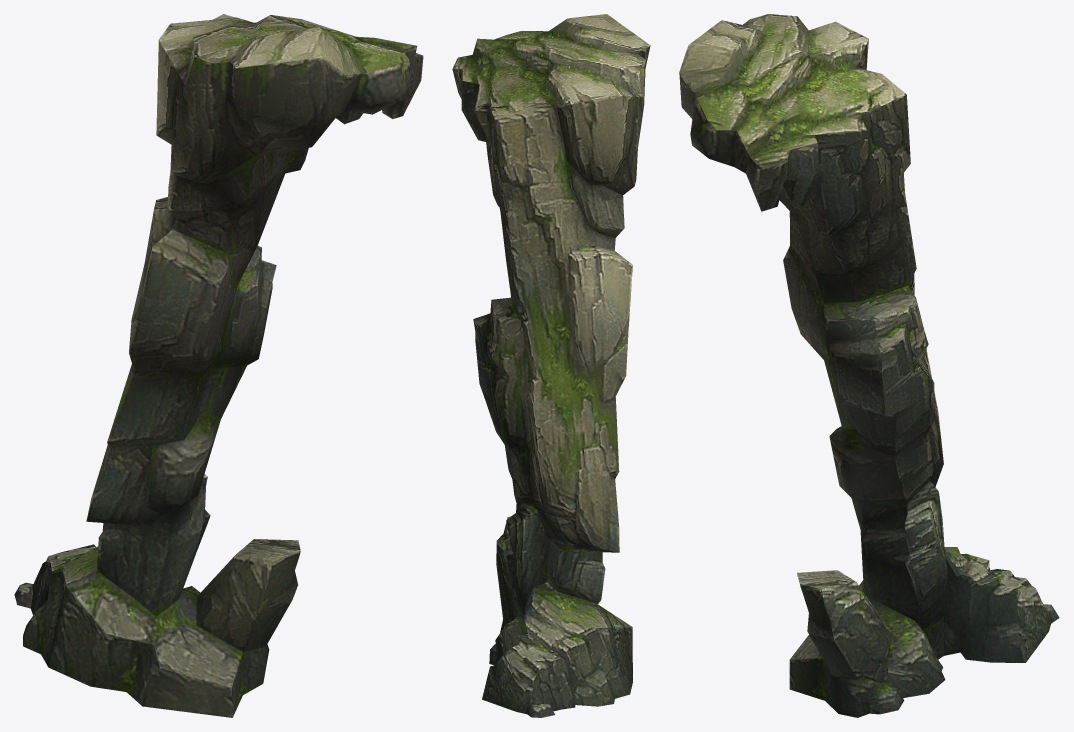
Rendered from 4004_Item_shitou_12.FBX.
3 renders of one model, left to right at view 1: azimuth 30°, elevation 25°; view 2: azimuth 150°, elevation 25°; view 3: azimuth 270°, elevation 25°, orthographic. The views are drawn at different scales.
Parts seen in each view (by area): view 1: 4004_Item_shitou_12; view 2: 4004_Item_shitou_12; view 3: 4004_Item_shitou_12.
Boxes of the visible parts, x1,y1,x2,y2 form: 4004_Item_shitou_12: (14, 14, 423, 717); 4004_Item_shitou_12: (452, 14, 650, 717); 4004_Item_shitou_12: (679, 14, 1059, 717).
Bounding box in the file's own units: 638 × 1462 × 754.
